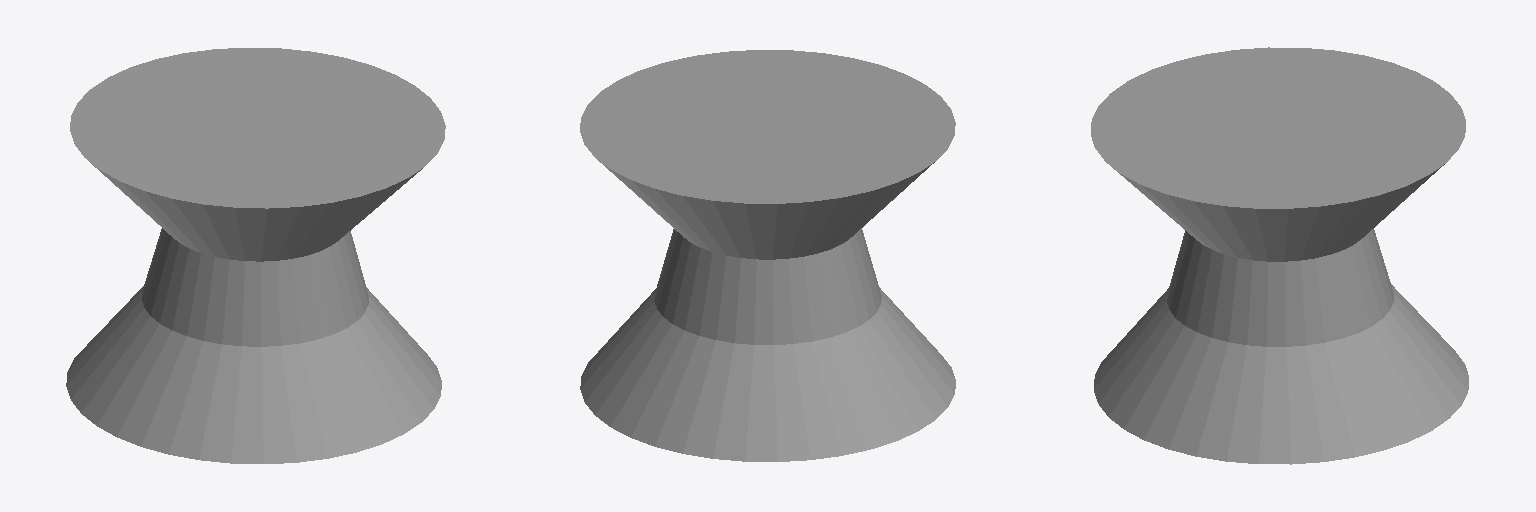
The model's file is whitepawn.obj.
3 renders of one model, left to right at view 1: azimuth 30°, elevation 25°; view 2: azimuth 150°, elevation 25°; view 3: azimuth 270°, elevation 25°, orthographic.
Visible parts, largest first — view 1: Cube; view 2: Cube; view 3: Cube.
Part boxes in pixels (left/top/right/bottom): Cube: left=66, top=48, right=445, bottom=463; Cube: left=580, top=50, right=955, bottom=461; Cube: left=1091, top=47, right=1468, bottom=464.
Size of the model in its own units: 4 by 3.05 by 4.01.